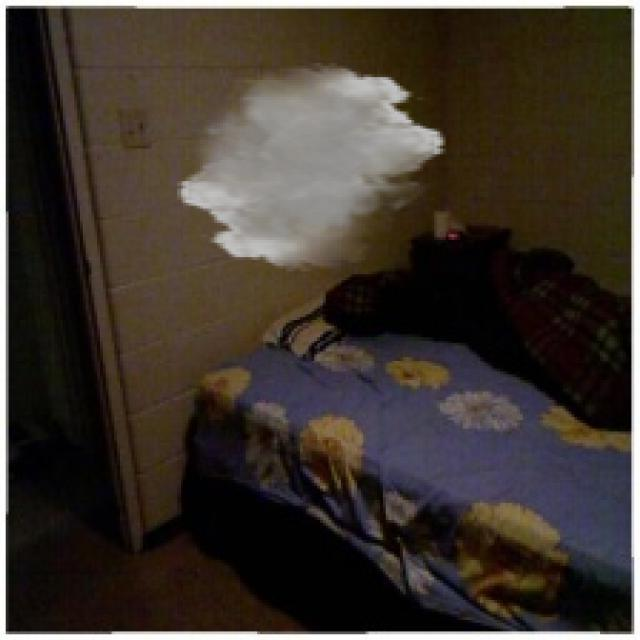Smoke: (174, 62, 449, 272)
